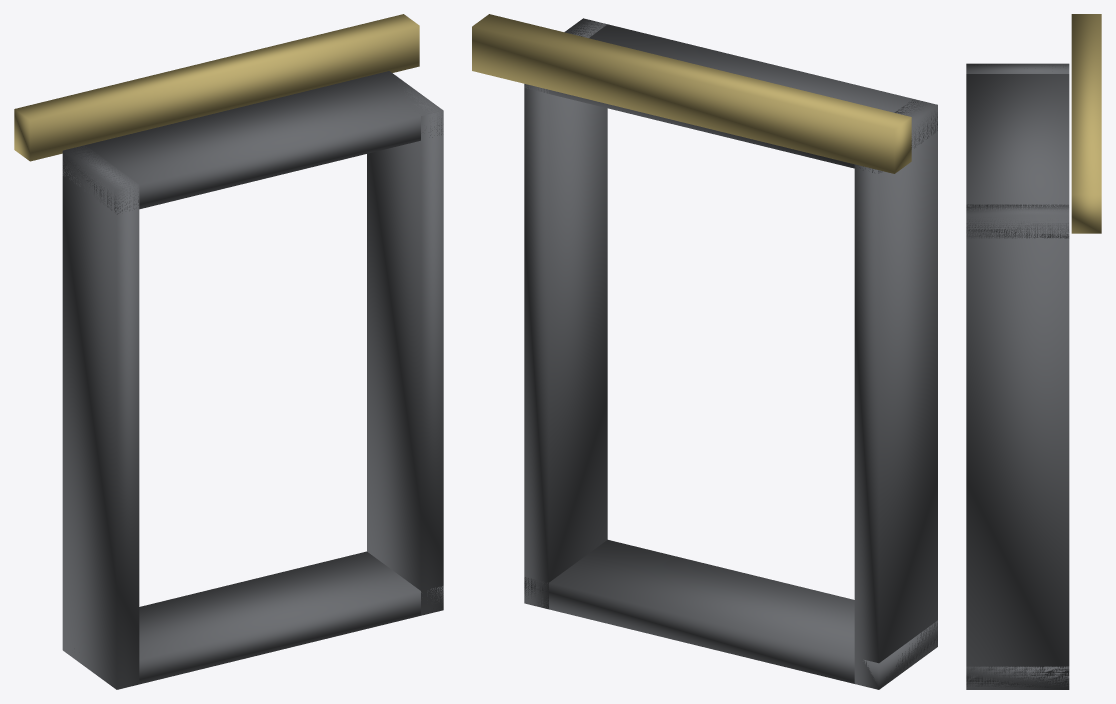
File: egress_window_motel_w72_h110_s55_d24.glb
3 views of the same model, side by side, from view 1: azimuth 30°, elevation 25°; view 2: azimuth 150°, elevation 25°; view 3: azimuth 270°, elevation 25° (orthographic). The views are drawn at different scales.
Visible parts, largest first — view 1: world; view 2: world; view 3: world.
Boxes of the visible parts, x1,y1,x2,y2 form: world: (14,14,443,689); world: (472,14,937,689); world: (966,14,1101,689).
Bounding box in the file's own units: 0.9952 × 1.31 × 0.315.
